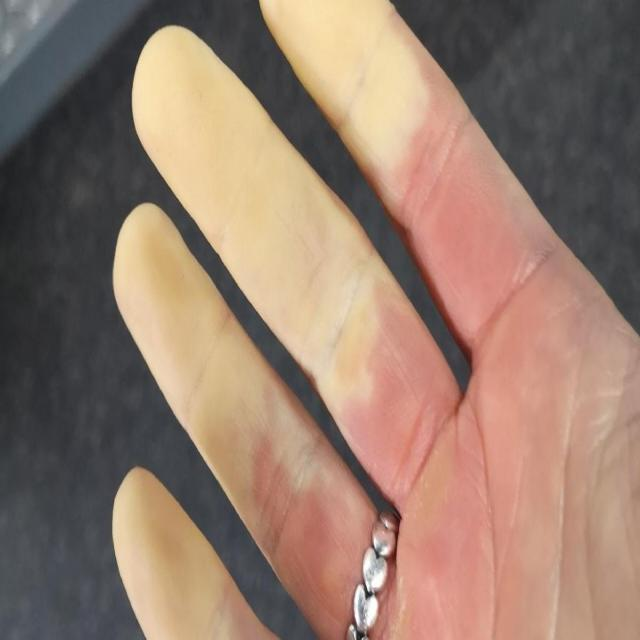raynauds: (107, 0, 441, 640)
